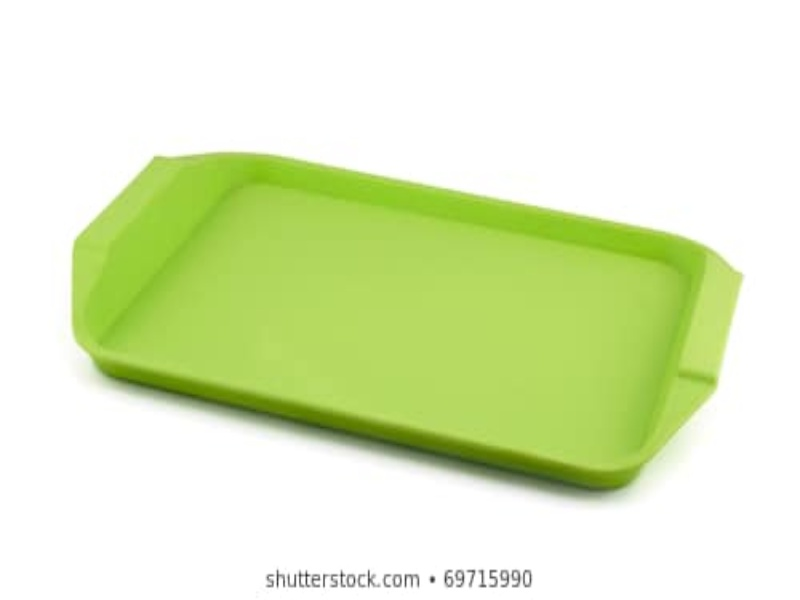plastic-tray: (72, 152, 750, 493)
